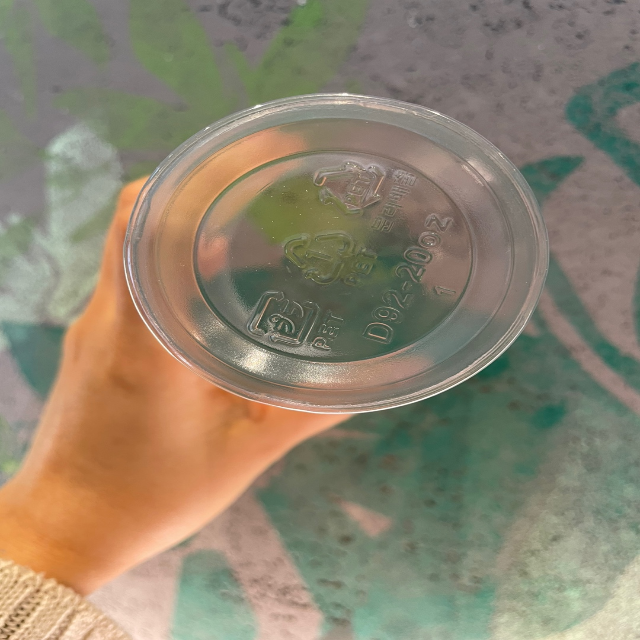pet: (308, 149, 415, 235), (237, 284, 355, 358), (277, 229, 375, 295)
